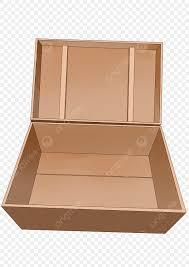box: (1, 38, 186, 234)
